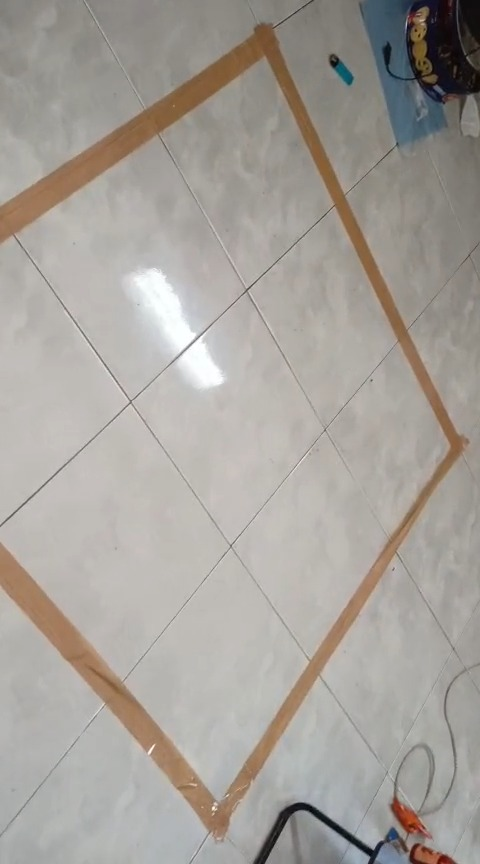floor marking: (1, 25, 467, 836)
